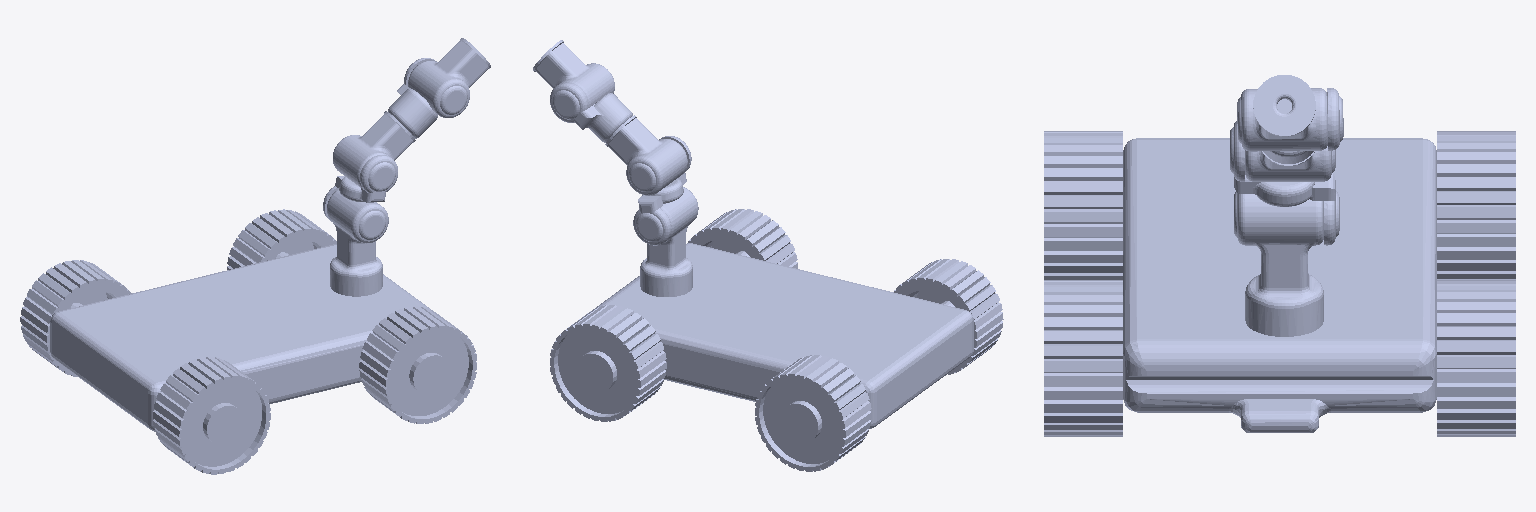
The robot description file, URDF, robot "rover":
<?xml version="1.0" encoding="utf-8"?>
<!-- =================================================================================== -->
<!-- |    This document was autogenerated by xacro from rover.urdf.xacro               | -->
<!-- |    EDITING THIS FILE BY HAND IS NOT RECOMMENDED                                 | -->
<!-- =================================================================================== -->
<robot name="rover">
  <link name="world" />
  <link name="base_link">
    <inertial>
      <origin rpy="0 0 0" xyz="-0.29995 0.2 0.041752"/>
      <mass value="13.103"/>
      <inertia ixx="0.24866" ixy="1.4075E-09" ixz="-0.0006327" iyy="0.61245" iyz="5.582E-09" izz="0.83734"/>
    </inertial>
    <visual>
      <origin rpy="0 0 0" xyz="0 0 0"/>
      <geometry>
        <mesh filename="package://rover/meshes/base_link.STL"/>
      </geometry>
      <material name="">
        <color rgba="0.79216 0.81961 0.93333 1"/>
      </material>
    </visual>
    <collision>
      <origin rpy="0 0 0" xyz="0 0 0"/>
      <geometry>
        <mesh filename="package://rover/meshes/base_link.STL"/>
      </geometry>
    </collision>
  </link>
  <joint name="dummy_joint" type="continuous">
    <axis xyz="0 0 1"/>
    <parent link="world"/>
    <child link="base_link"/>
    <origin rpy="0 0 0" xyz="0.0 0.0 0.1"/>
  </joint>


  <link name="rear_wheels">
    <inertial>
      <origin rpy="0 0 0" xyz="-1.1102E-16 2.2204E-16 -0.3"/>
      <mass value="3.8893"/>
      <inertia ixx="0.026151" ixy="3.5479E-19" ixz="-2.0965E-19" iyy="0.026151" iyz="-1.1357E-18" izz="0.020788"/>
    </inertial>
    <visual>
      <origin rpy="0 0 0" xyz="0 0 0"/>
      <geometry>
        <mesh filename="package://rover/meshes/rear_wheels.STL"/>
      </geometry>
      <material name="">
        <color rgba="0.79216 0.81961 0.93333 1"/>
      </material>
    </visual>
    <collision>
      <origin rpy="0 0 0" xyz="0 0 0"/>
      <geometry>
        <mesh filename="package://rover/meshes/rear_wheels.STL"/>
      </geometry>
    </collision>
  </link>
  <joint name="rear_wheel_joint" type="continuous">
    <origin rpy="1.5708 0 0" xyz="-0.52 -0.1 0.022"/>
    <parent link="base_link"/>
    <child link="rear_wheels"/>
    <axis xyz="0 0 1"/>
  </joint>
  <link name="front_wheels">
    <inertial>
      <origin rpy="0 0 0" xyz="-1.8874E-15 6.6613E-16 -0.3"/>
      <mass value="3.8893"/>
      <inertia ixx="0.026151" ixy="9.817E-19" ixz="7.6731E-19" iyy="0.026151" iyz="1.0524E-19" izz="0.020788"/>
    </inertial>
    <visual>
      <origin rpy="0 0 0" xyz="0 0 0"/>
      <geometry>
        <mesh filename="package://rover/meshes/front_wheels.STL"/>
      </geometry>
      <material name="">
        <color rgba="0.79216 0.81961 0.93333 1"/>
      </material>
    </visual>
    <collision>
      <origin rpy="0 0 0" xyz="0 0 0"/>
      <geometry>
        <mesh filename="package://rover/meshes/front_wheels.STL"/>
      </geometry>
    </collision>
  </link>
  <joint name="front_wheel_joint" type="continuous">
    <origin rpy="1.5708 0 0" xyz="-0.07 -0.1 0.022"/>
    <parent link="base_link"/>
    <child link="front_wheels"/>
    <axis xyz="0 0 1"/>
  </joint>
  <link name="arn_base">
    <inertial>
      <origin rpy="0 0 0" xyz="0.092843 0.11115 0.19139"/>
      <mass value="1.1258"/>
      <inertia ixx="0.0046576" ixy="-4.2427E-10" ixz="-1.9958E-10" iyy="0.0013278" iyz="-0.00014449" izz="0.00438"/>
    </inertial>
    <visual>
      <origin rpy="0 0 0" xyz="0 0 0"/>
      <geometry>
        <mesh filename="package://rover/meshes/arn_base.STL"/>
      </geometry>
      <material name="">
        <color rgba="0.79216 0.81961 0.93333 1"/>
      </material>
    </visual>
    <collision>
      <origin rpy="0 0 0" xyz="0 0 0"/>
      <geometry>
        <mesh filename="package://rover/meshes/arn_base.STL"/>
      </geometry>
    </collision>
  </link>

  <link name="bicep">
    <inertial>
      <origin rpy="0 0 0" xyz="-9.5491E-08 0.050024 0.069997"/>
      <mass value="0.41299"/>
      <inertia ixx="0.0015642" ixy="-1.2115E-11" ixz="1.9733E-10" iyy="0.00097868" iyz="-0.00038761" izz="0.0008296"/>
    </inertial>
    <visual>
      <origin rpy="0 0 0" xyz="0 0 0"/>
      <geometry>
        <mesh filename="package://rover/meshes/bicep.STL"/>
      </geometry>
      <material name="">
        <color rgba="0.79216 0.81961 0.93333 1"/>
      </material>
    </visual>
    <collision>
      <origin rpy="0 0 0" xyz="0 0 0"/>
      <geometry>
        <mesh filename="package://rover/meshes/bicep.STL"/>
      </geometry>
    </collision>
  </link>
  <joint name="shoulder_joint" type="continuous">
    <origin rpy="1.5708 0.18321 0" xyz="0.092843 -0.11914 0.16839"/>
    <parent link="arn_base"/>
    <child link="bicep"/>
    <axis xyz="0 0 1"/>
  </joint>
  <link name="bottom_wrist">
    <inertial>
      <origin rpy="0 0 0" xyz="-4.0905E-08 -0.02109 0.055"/>
      <mass value="0.73266"/>
      <inertia ixx="0.0015748" ixy="2.1317E-09" ixz="-1.5E-10" iyy="0.00084305" iyz="1.4705E-11" izz="0.0013045"/>
    </inertial>
    <visual>
      <origin rpy="0 0 0" xyz="0 0 0"/>
      <geometry>
        <mesh filename="package://rover/meshes/bottom_wrist.STL"/>
      </geometry>
      <material name="">
        <color rgba="0.79216 0.81961 0.93333 1"/>
      </material>
    </visual>
    <collision>
      <origin rpy="0 0 0" xyz="0 0 0"/>
      <geometry>
        <mesh filename="package://rover/meshes/bottom_wrist.STL"/>
      </geometry>
    </collision>
  </link>
  <joint name="bottom_wrist_joint" type="continuous">
    <origin rpy="0 0 2.3852" xyz="0 0.1 0.01"/>
    <parent link="bicep"/>
    <child link="bottom_wrist"/>
    <axis xyz="0 0 1"/>
  </joint>
  <link name="elbow">
    <inertial>
      <origin rpy="0 0 0" xyz="-1.0046E-08 -0.10496 -0.01015"/>
      <mass value="0.4633"/>
      <inertia ixx="0.0010638" ixy="-4.2139E-12" ixz="2.3982E-10" iyy="0.00063995" iyz="-0.00019133" izz="0.00074255"/>
    </inertial>
    <visual>
      <origin rpy="0 0 0" xyz="0 0 0"/>
      <geometry>
        <mesh filename="package://rover/meshes/elbow.STL"/>
      </geometry>
      <material name="">
        <color rgba="0.79216 0.81961 0.93333 1"/>
      </material>
    </visual>
    <collision>
      <origin rpy="0 0 0" xyz="0 0 0"/>
      <geometry>
        <mesh filename="package://rover/meshes/elbow.STL"/>
      </geometry>
    </collision>
  </link>

  <joint name="elbow_joint" type="continuous">
    <origin rpy="0 -0.011377 0" xyz="0 -0.046157 0.055"/>
    <parent link="bottom_wrist"/>
    <child link="elbow"/>
    <axis xyz="0 1 0"/>
  </joint>
  <link name="top_wrist">
    <inertial>
      <origin rpy="0 0 0" xyz="8.1204E-09 -0.02109 -0.0050001"/>
      <mass value="0.73266"/>
      <inertia ixx="0.0015748" ixy="2.8411E-09" ixz="-7.6201E-11" iyy="0.00084305" iyz="4.5363E-10" izz="0.0013045"/>
    </inertial>
    <visual>
      <origin rpy="0 0 0" xyz="0 0 0"/>
      <geometry>
        <mesh filename="package://rover/meshes/top_wrist.STL"/>
      </geometry>
      <material name="">
        <color rgba="0.79216 0.81961 0.93333 1"/>
      </material>
    </visual>
    <collision>
      <origin rpy="0 0 0" xyz="0 0 0"/>
      <geometry>
        <mesh filename="package://rover/meshes/top_wrist.STL"/>
      </geometry>
    </collision>
  </link>
  <joint name="top_wrist_joint" type="continuous">
    <origin rpy="3.1416 0 3.1319" xyz="0 -0.15448 0"/>
    <parent link="elbow"/>
    <child link="top_wrist"/>
    <axis xyz="0 0 1"/>
  </joint>
  <!--######################################################################-->
  <joint name="arn_base_joint" type="fixed">
    <origin rpy="0 0 0" xyz="-0.15 0.395 0.063"/>
    <parent link="base_link"/>
    <child link="arn_base"/>
  </joint>

  <!--################################ ARM TRANSIMISSIONS ######################################-->
  <transmission name="shoulder_trans" type="SimpleTransmission">
    <type>transmission_interface/SimpleTransmission</type>
    <actuator name="shoulder_motor">
      <hardwareInterface>hardware_interface/PositionJointInterface</hardwareInterface>
      <mechanicalReduction>1</mechanicalReduction>
    </actuator>
    <joint name="shoulder_joint">
      <hardwareInterface>hardware_interface/PositionJointInterface</hardwareInterface>
    </joint>
  </transmission>
  <transmission name="bottom_wrist_trans" type="SimpleTransmission">
    <type>transmission_interface/SimpleTransmission</type>
    <actuator name="bottom_wrist_motor">
      <hardwareInterface>hardware_interface/PositionJointInterface</hardwareInterface>
      <mechanicalReduction>1</mechanicalReduction>
    </actuator>
    <joint name="bottom_wrist_joint">
      <hardwareInterface>hardware_interface/PositionJointInterface</hardwareInterface>
    </joint>
  </transmission>
  <transmission name="elbow_trans" type="SimpleTransmission">
    <type>transmission_interface/SimpleTransmission</type>
    <actuator name="elbow_motor">
      <hardwareInterface>hardware_interface/PositionJointInterface</hardwareInterface>
      <mechanicalReduction>1</mechanicalReduction>
    </actuator>
    <joint name="elbow_joint">
      <hardwareInterface>hardware_interface/PositionJointInterface</hardwareInterface>
    </joint>
  </transmission>
  <transmission name="top_wrist_trans" type="SimpleTransmission">
    <type>transmission_interface/SimpleTransmission</type>
    <actuator name="top_wrist_motor">
      <hardwareInterface>hardware_interface/PositionJointInterface</hardwareInterface>
      <mechanicalReduction>1</mechanicalReduction>
    </actuator>
    <joint name="top_wrist_joint">
      <hardwareInterface>hardware_interface/PositionJointInterface</hardwareInterface>
    </joint>
  </transmission>
  
  <!--######################################################################-->
  <gazebo>
    <plugin filename="libgazebo_ros_control.so" name="gazebo_ros_control">
      <robotNamespace>/</robotNamespace>
      <controlPeriod>0.001</controlPeriod>
      <legacyModeNS>false</legacyModeNS>
    </plugin>
  </gazebo>

</robot>

--- Render facts (derived) ---
The picture shows the robot from 3 angles, left to right: view 1: azimuth 30°, elevation 25°; view 2: azimuth 150°, elevation 25°; view 3: azimuth 270°, elevation 25°; orthographic projection.
Robot: rover — 9 links, 8 joints (7 continuous, 1 fixed); root link world; default pose: every joint at zero.
Links seen in each view (by area): view 1: base_link, rear_wheels, front_wheels, arn_base, top_wrist, bottom_wrist, bicep, elbow; view 2: base_link, rear_wheels, front_wheels, arn_base, bottom_wrist, bicep, elbow, top_wrist; view 3: base_link, front_wheels, rear_wheels, arn_base, top_wrist, bicep, bottom_wrist, elbow.
Link boxes in pixels (x1,y1,x2,y2): base_link: (50, 244, 432, 431); rear_wheels: (20, 260, 270, 474); front_wheels: (227, 209, 476, 423); arn_base: (327, 189, 388, 296); top_wrist: (408, 38, 490, 117); bottom_wrist: (333, 111, 415, 189); bicep: (323, 155, 397, 239); elbow: (388, 58, 467, 138); base_link: (596, 243, 973, 428); rear_wheels: (755, 259, 1003, 471); front_wheels: (550, 209, 797, 421); arn_base: (640, 187, 698, 296); bottom_wrist: (605, 115, 687, 195); bicep: (629, 136, 691, 245); elbow: (550, 83, 632, 142); top_wrist: (533, 40, 614, 107); base_link: (1123, 138, 1436, 432); front_wheels: (1044, 280, 1515, 436); rear_wheels: (1044, 131, 1515, 279); arn_base: (1237, 193, 1323, 336); top_wrist: (1241, 75, 1327, 151); bicep: (1230, 121, 1339, 245); bottom_wrist: (1245, 146, 1331, 181); elbow: (1237, 88, 1343, 163).
Size in the robot's own frame: 0.8476 by 0.6 by 0.6167 metres.
8 mesh visuals loaded from 8 distinct referenced files (8 binary STL).